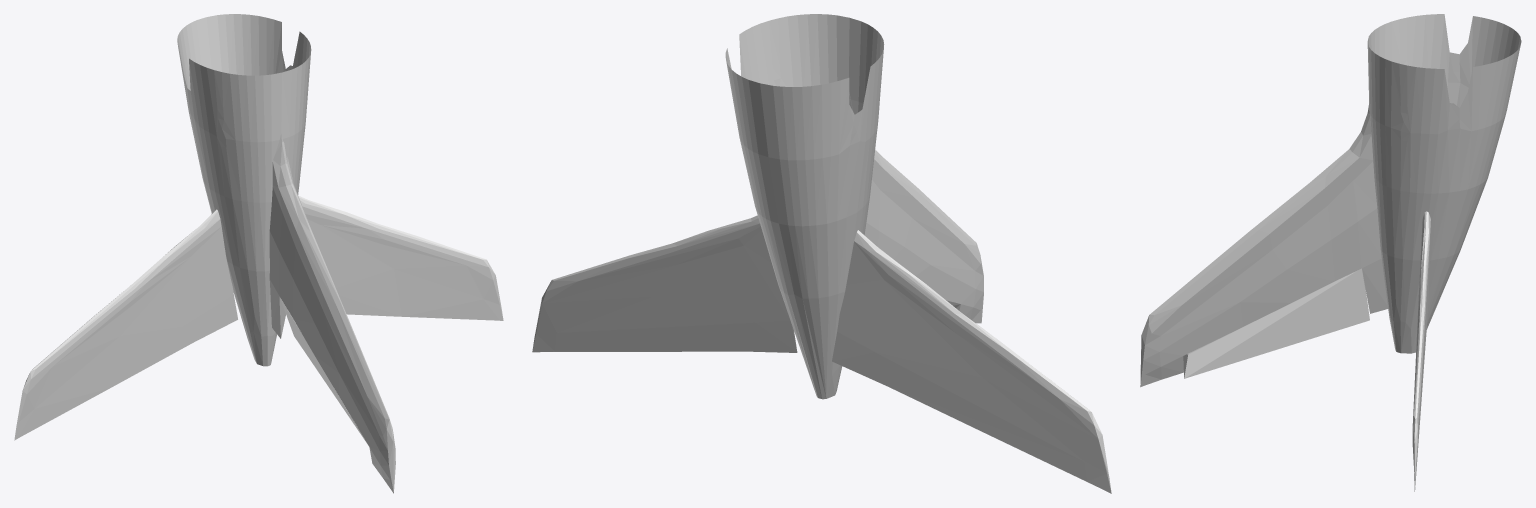
File: heck.obj
3 renders of one model, left to right at view 1: azimuth 30°, elevation 25°; view 2: azimuth 150°, elevation 25°; view 3: azimuth 270°, elevation 25°, orthographic. The views are drawn at different scales.
Parts seen in each view (by area): view 1: chassis01, rudder01; view 2: chassis01; view 3: chassis01, rudder01.
Boxes of the visible parts, bbox=[...] form: chassis01: bbox=[14, 14, 503, 493]; rudder01: bbox=[280, 297, 367, 444]; chassis01: bbox=[532, 14, 1111, 493]; chassis01: bbox=[1140, 14, 1521, 491]; rudder01: bbox=[1183, 268, 1369, 378].
Size of the model in its own units: 288 by 191 by 191.
1 material, 1 textured.
